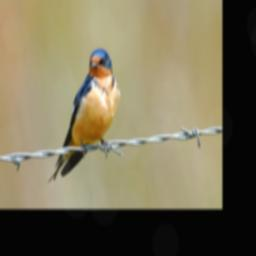Swallow: (48, 47, 122, 183)
